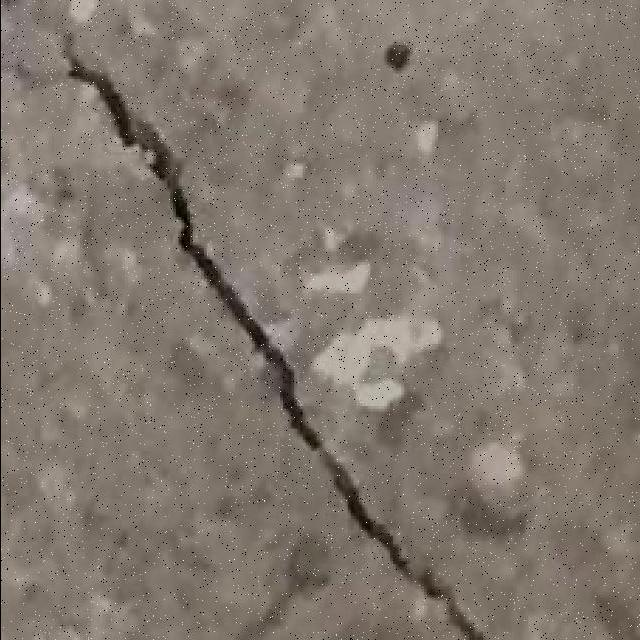crack: (59, 22, 487, 638), (65, 46, 206, 236)
